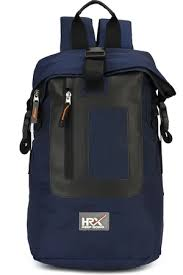backpack: (19, 0, 176, 270)
